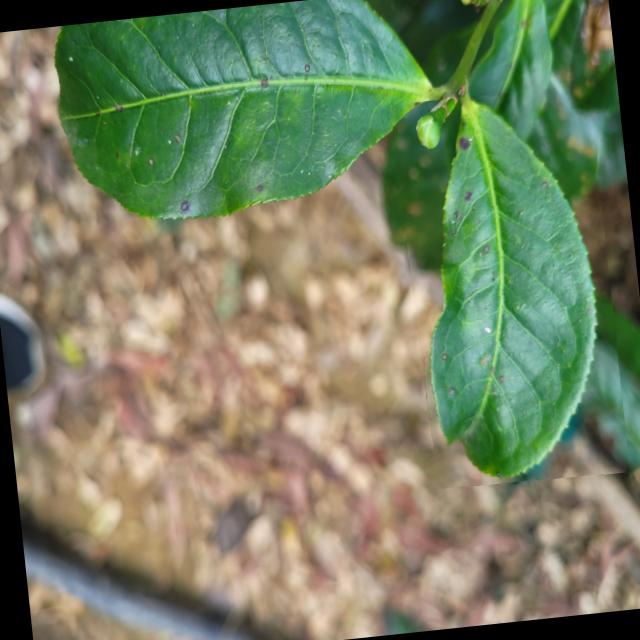Category D(7+ days, Not for Tea): (388, 84, 628, 492)
